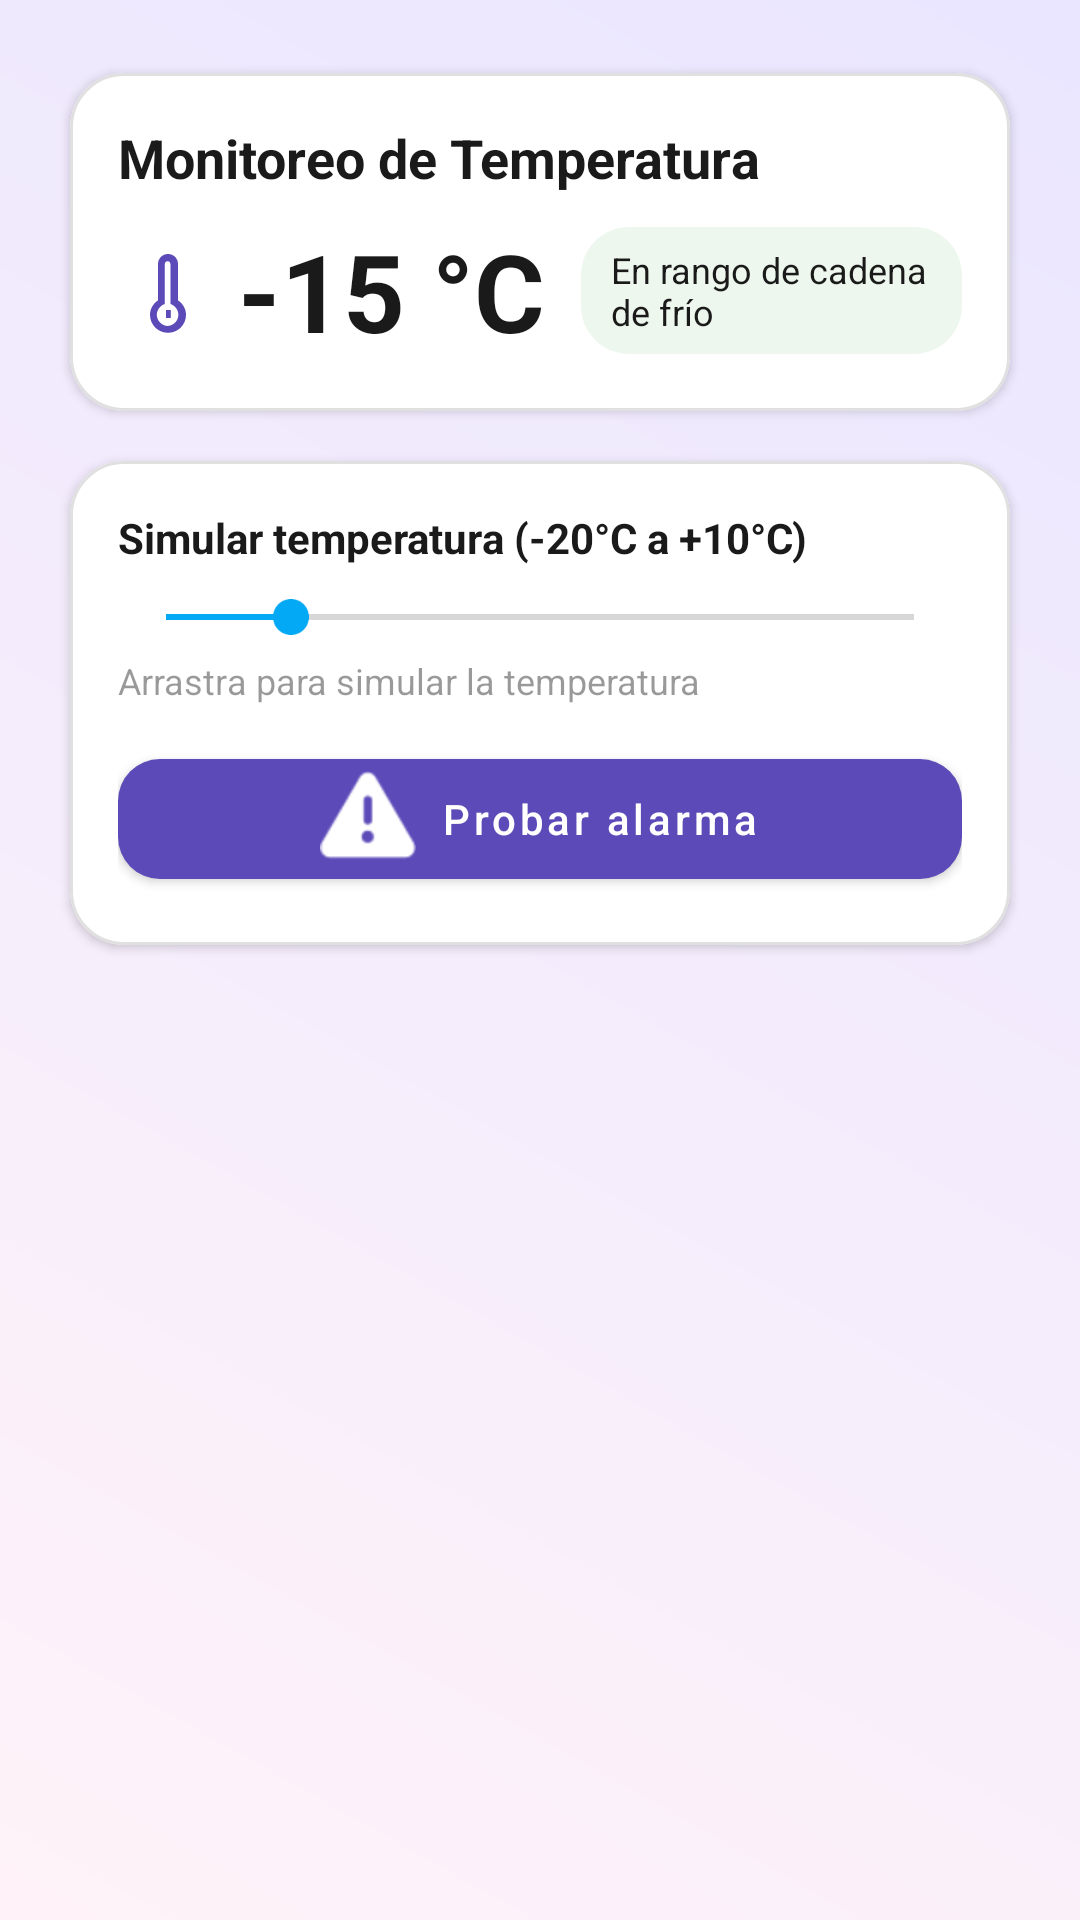

Point at icon controls on the screen. Image size 1080x1920, points as point (x, y).
Icono termómetro: point (168, 293)
